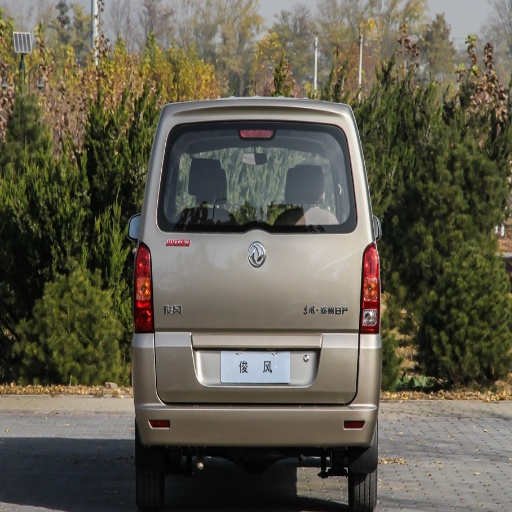back_bumper: (132, 335, 377, 443)
back_glass: (163, 147, 323, 229)
back_left_door: (296, 123, 360, 246)
tailgate: (223, 316, 347, 400)
trunk: (147, 230, 358, 403)
